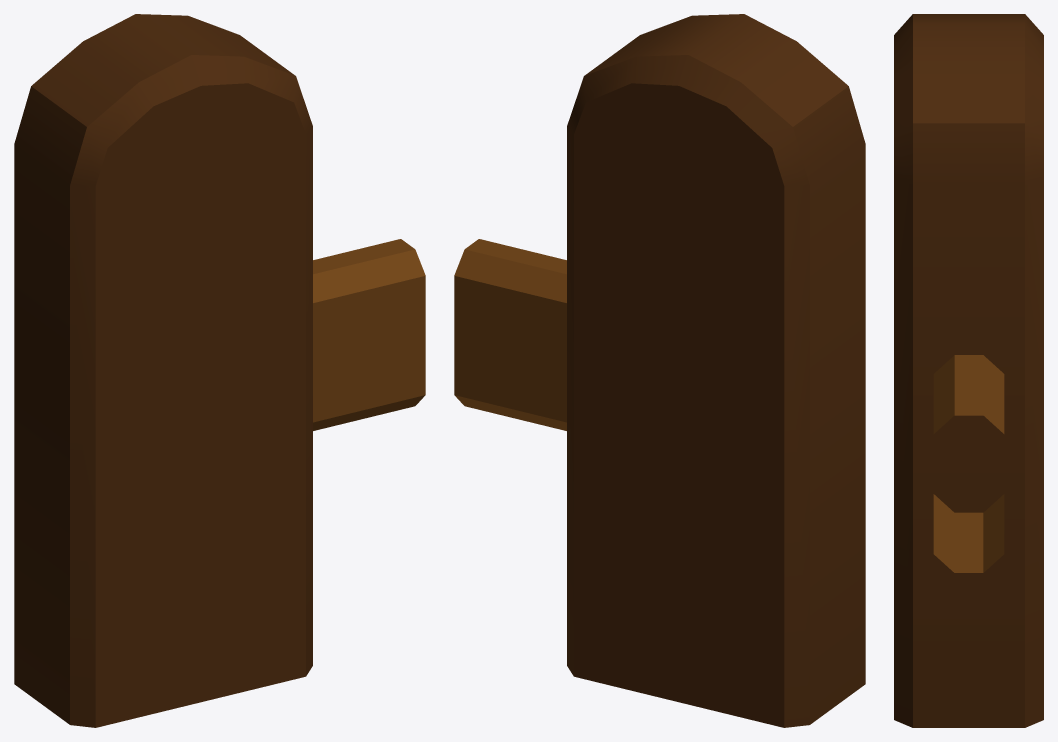
Rendered from Fence_1.obj.
3 views of the same model, side by side, from view 1: azimuth 30°, elevation 25°; view 2: azimuth 150°, elevation 25°; view 3: azimuth 270°, elevation 25° (orthographic).
Visible parts, largest first — view 1: Fence_1_Cube.198; view 2: Fence_1_Cube.198; view 3: Fence_1_Cube.198.
Part boxes in pixels (x1,y1,x2,y2): Fence_1_Cube.198: (14, 14, 425, 727); Fence_1_Cube.198: (454, 14, 865, 727); Fence_1_Cube.198: (894, 14, 1043, 727).
Size of the model in its own units: 0.7482 by 1.25 by 0.2644.
